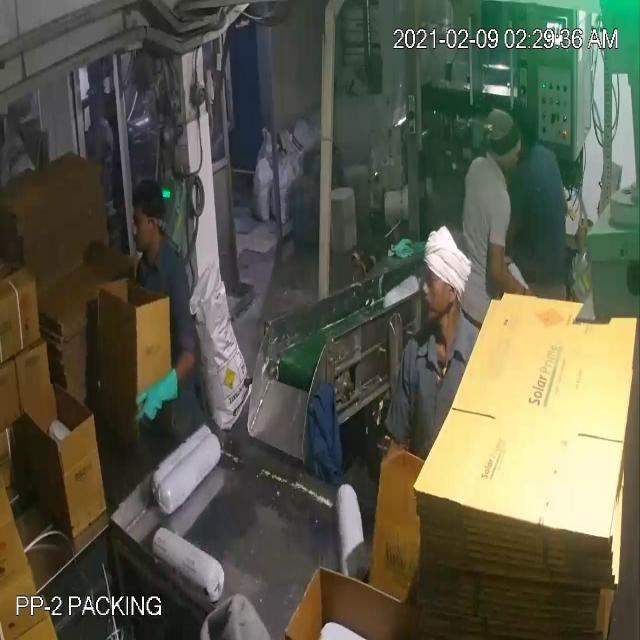Gloves: (46, 69, 520, 398)
